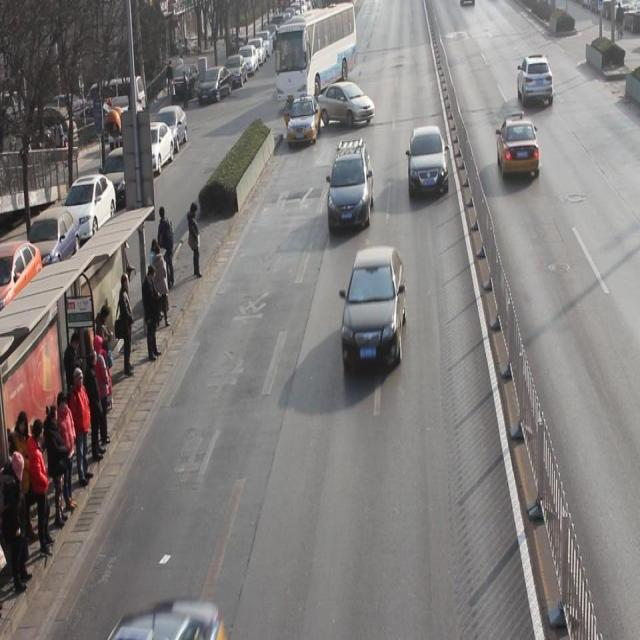car: (340, 245, 408, 372), (327, 142, 375, 232), (408, 126, 450, 200), (317, 79, 375, 127), (498, 116, 540, 180), (517, 55, 554, 107), (286, 96, 322, 147)
van: (276, 10, 355, 109)
